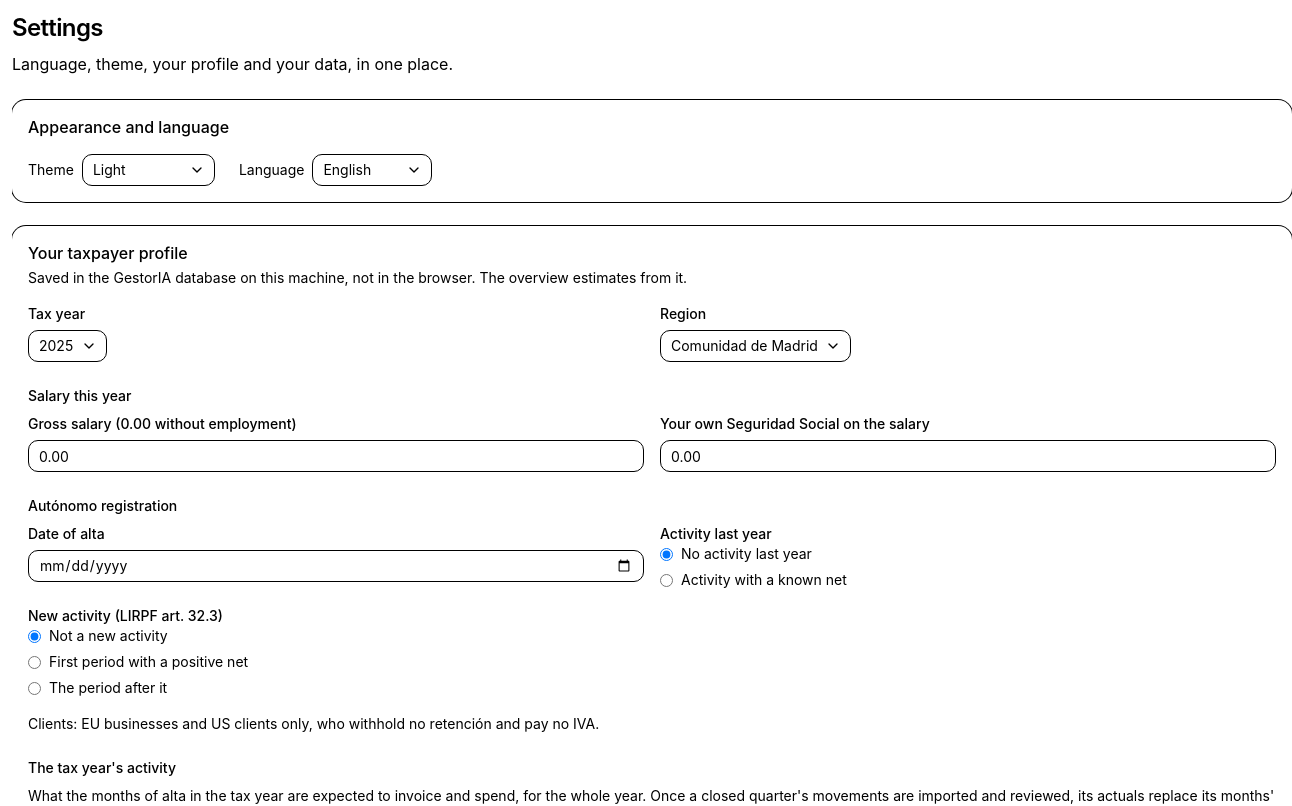
Scenario: SettingsPage › starts a new profile on the newest tax year that declares no gap, and shows a chosen year's gaps
Select "2026" in the dropdown labelled "Tax year": (68, 346) [28,330,107,362]
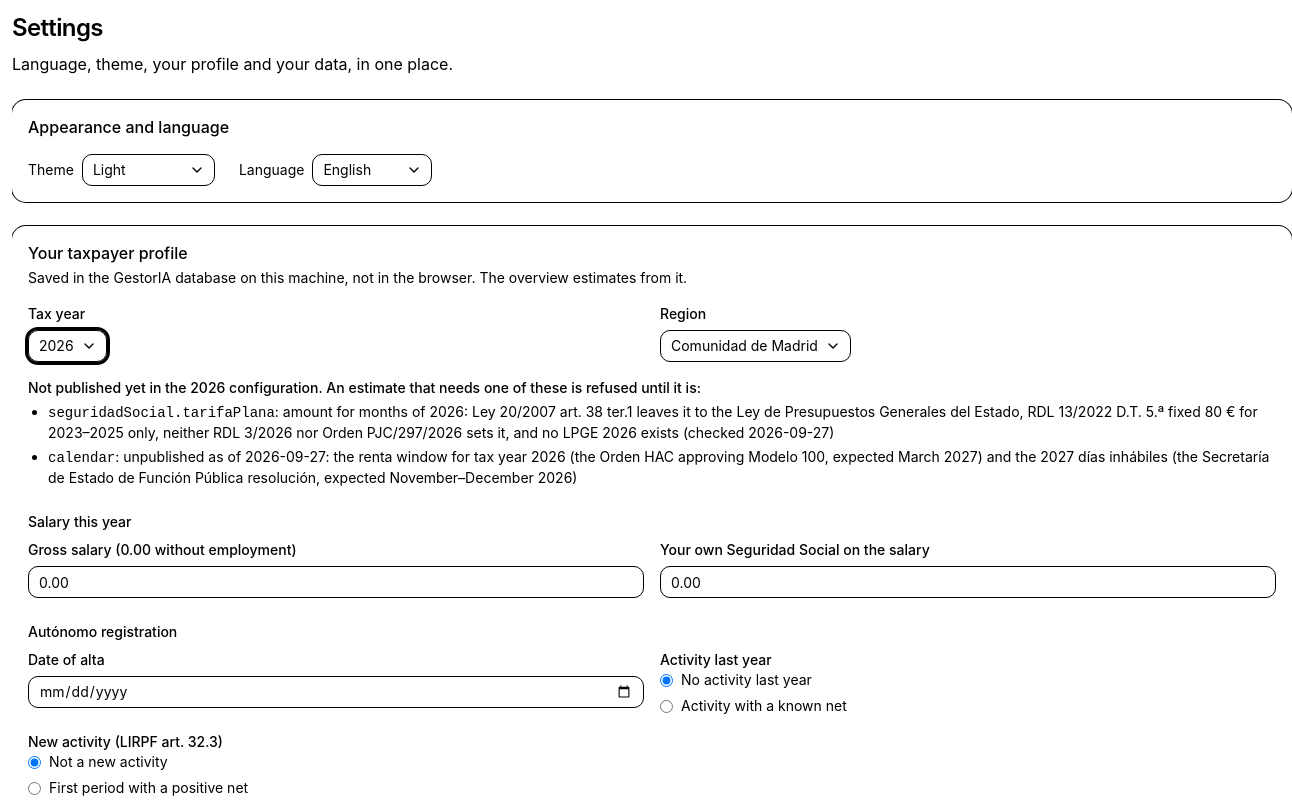
expect the text "seguridadSocial.tarifaPlana" is shown: met, box [48,405,275,421]
expect the text "amount for months of 2026: Ley 20/2007 art. 38 ter.1 leaves it to the Ley de Presupuestos Generales del Estado, RDL 13/2" is shown: met, box [48,403,1258,441]
expect the text "calendar" is shown: met, box [48,450,115,466]
